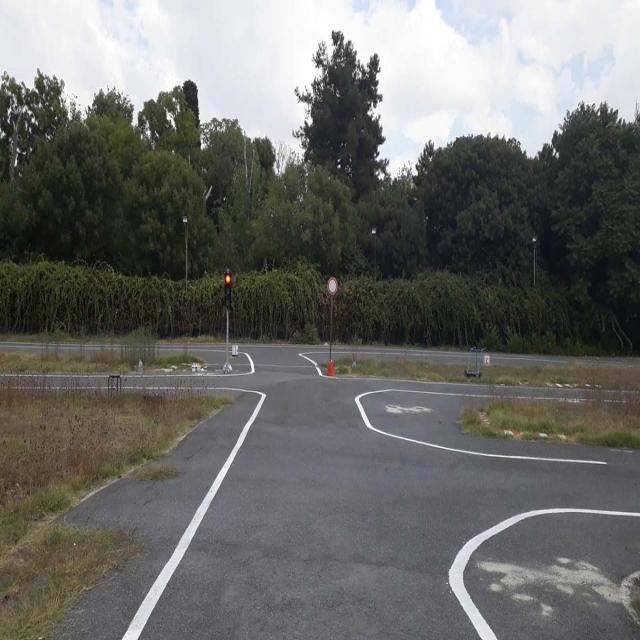kirmizi: (224, 274, 232, 306)
